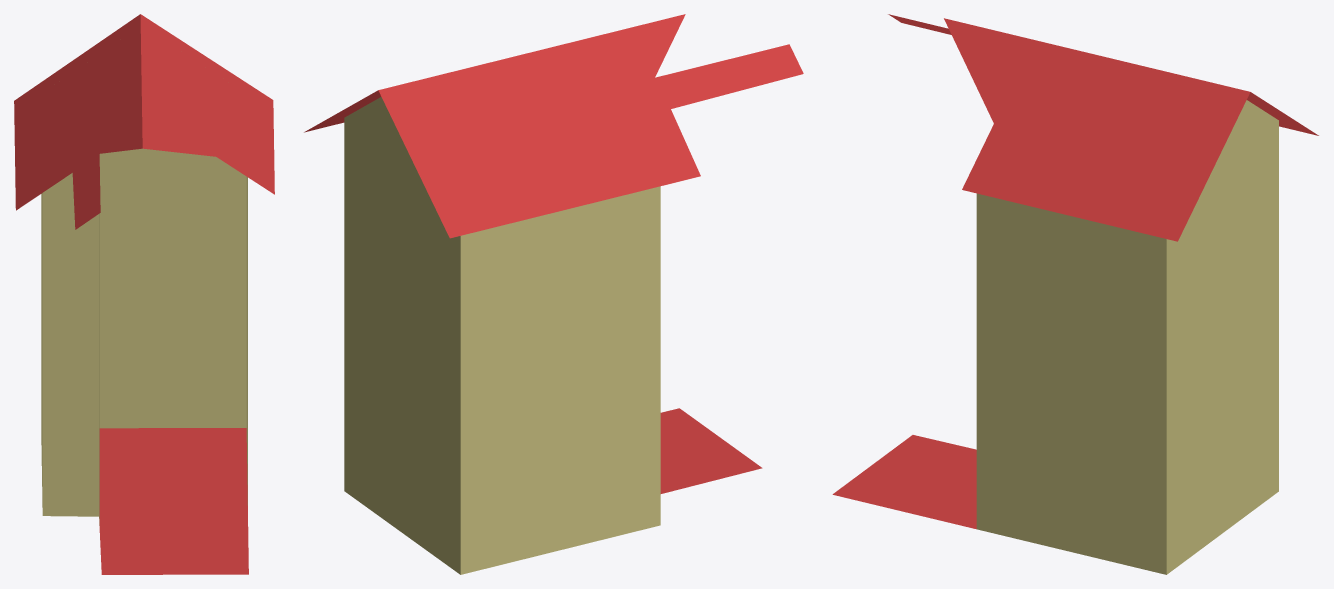
3 renders of one model, left to right at view 1: azimuth 30°, elevation 25°; view 2: azimuth 150°, elevation 25°; view 3: azimuth 270°, elevation 25°, orthographic. The views are drawn at different scales.
Bounding box in the file's own units: 10.37 × 12.25 × 12.37.
